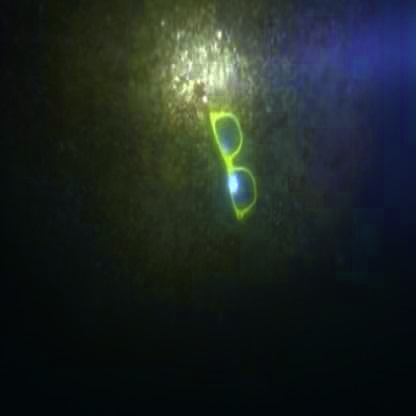sunglasses: (209, 99, 270, 223)
